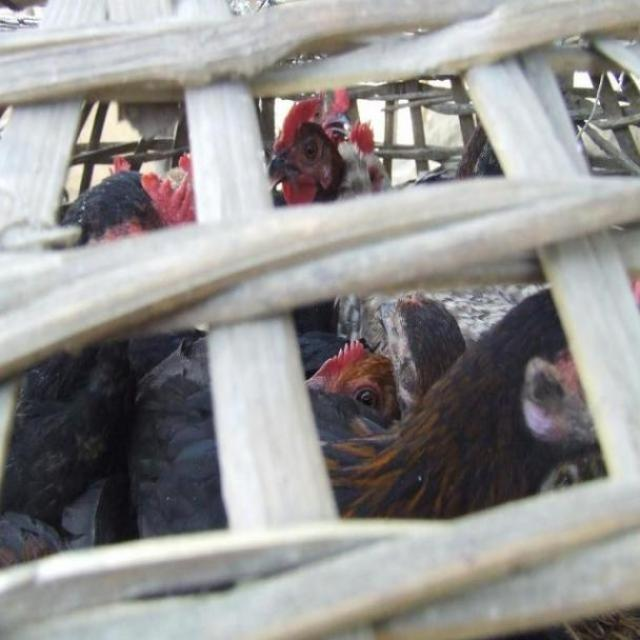Chicken: (0, 89, 640, 570), (257, 101, 343, 210)
